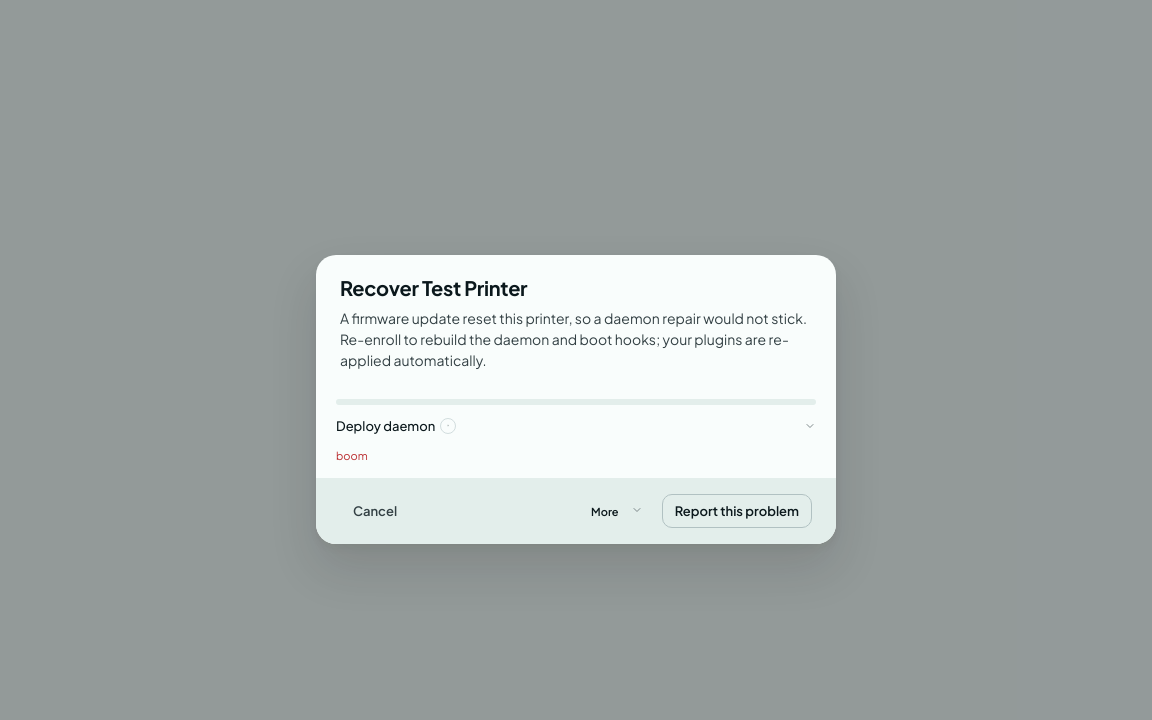
Enrollment operation that goes quiet › lets the user out of a retry that goes quiet too
Click the button "More" at (617,511), box [580,494,654,528]
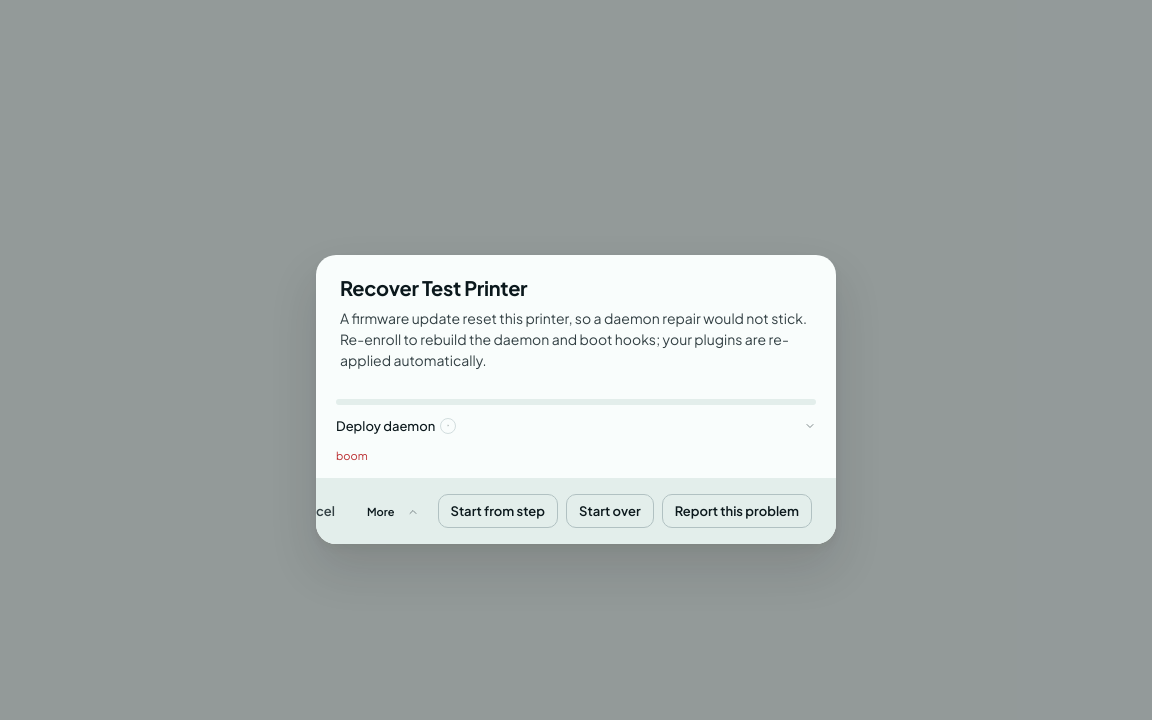
Click the button "Start from step" at (498,511), box [438,494,558,528]
Wait 30000 ms
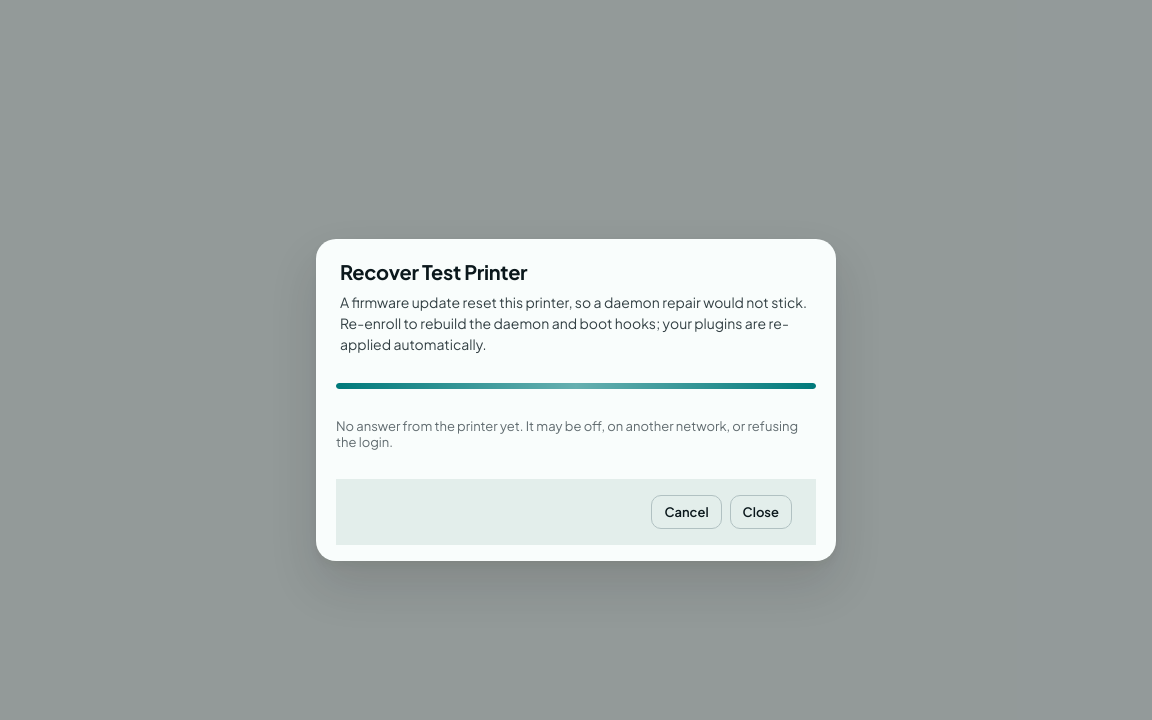
Now the text "No answer from the printer yet. It may be off, on another network, or refusing the login." is shown, box [336,418,798,450]
Now the button "Close" is shown, box [730,494,792,528]
